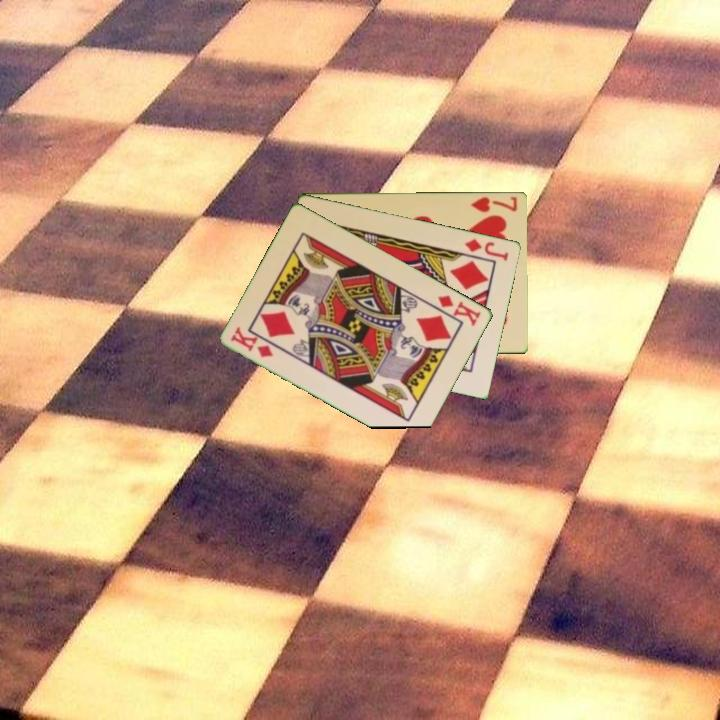7h: (468, 193, 520, 215)
Jd: (462, 235, 511, 263)
Kd: (434, 291, 484, 329), (227, 324, 277, 360)
